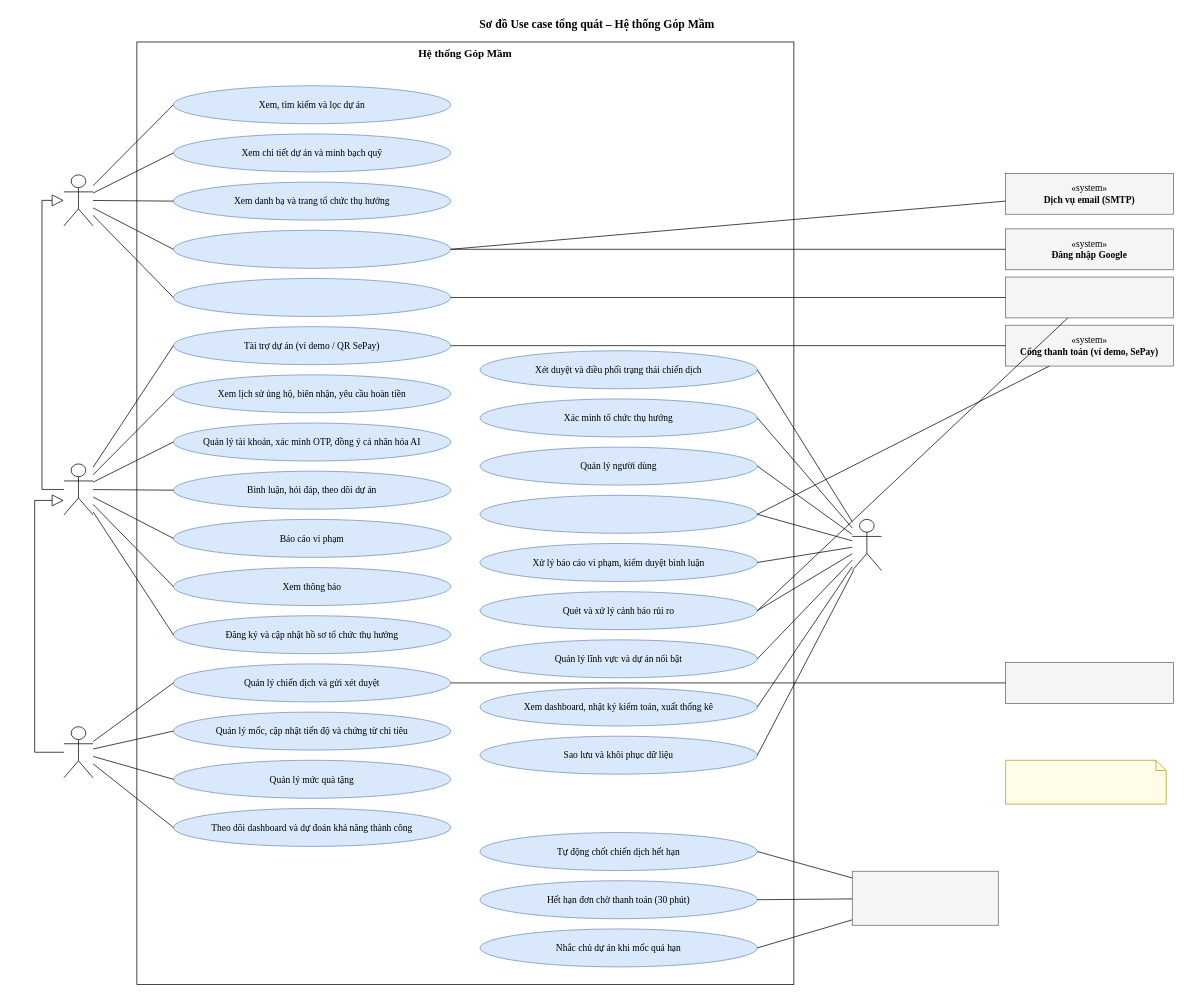
The diagram is 1193 pixels wide and 997 high, and some of its shapes have lost their labels. The shapes that lost their labels are listed below. From the top down, each one's centre as x and y in pixels, then its label:
the point at 78,200: Khách truy cập
the point at 312,249: Đăng ký, đăng nhập (kể cả Google), khôi phục mật khẩu
the point at 312,297: Nhận gợi ý dự án
the point at 1089,297: «system» Dịch vụ AI (FastAPI)
the point at 78,489: Người tài trợ
the point at 618,514: Giám sát giao dịch, xử lý hoàn tiền, đối soát
the point at 866,544: Quản trị viên
the point at 1089,682: «system» Lưu trữ tệp (Local/S3)
the point at 78,752: Chủ dự án
the point at 1085,782: Liên kết chi tiết với các hệ thống ngoài xem ở sơ đồ phân rã UC01–UC04.
the point at 925,898: «system» Bộ lập lịch (cron)
